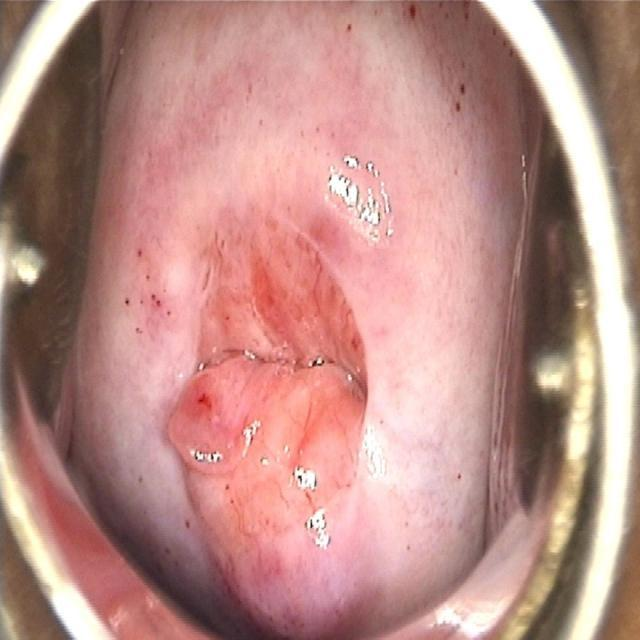cervical_lesion: (147, 100, 441, 628)
